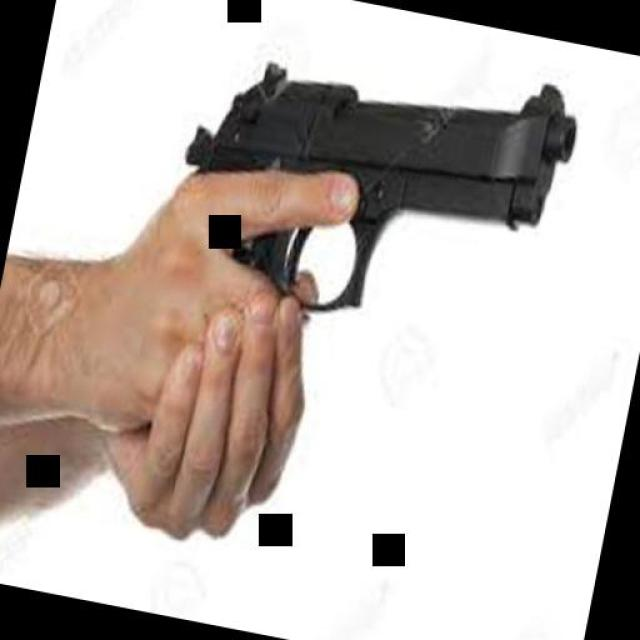gun: (162, 5, 586, 354)
